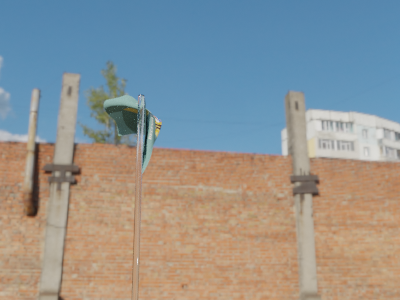Delaware flag: (104, 94, 166, 169)
